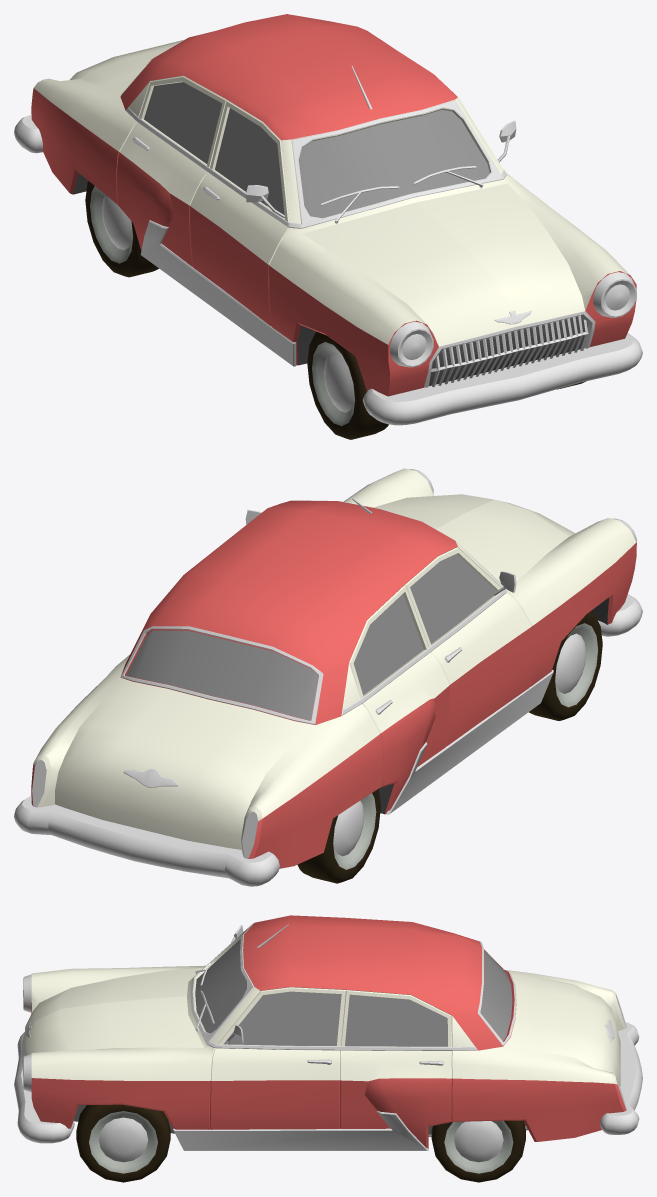
Rendered from Volga.fbx.
3 renders of one model, top to bottom at view 1: azimuth 30°, elevation 25°; view 2: azimuth 150°, elevation 25°; view 3: azimuth 270°, elevation 25°, orthographic. The views are drawn at different scales.
Visible parts, largest first — view 1: Body, Wheel_FR, Wheel_RR; view 2: Body, Wheel_FR, Wheel_RR; view 3: Body, Wheel_FL, Wheel_RL.
Part boxes in pixels (x1=…): Body: x1=14, y1=14, x2=642, y2=425; Wheel_FR: x1=307, y1=332, x2=388, y2=439; Wheel_RR: x1=85, y1=181, x2=158, y2=277; Body: x1=14, y1=468, x2=642, y2=886; Wheel_FR: x1=529, y1=611, x2=602, y2=720; Wheel_RR: x1=297, y1=789, x2=380, y2=883; Body: x1=14, y1=915, x2=642, y2=1150; Wheel_FL: x1=76, y1=1104, x2=170, y2=1182; Wheel_RL: x1=431, y1=1120, x2=525, y2=1182.
Size of the model in its own units: 188 by 175 by 468.
